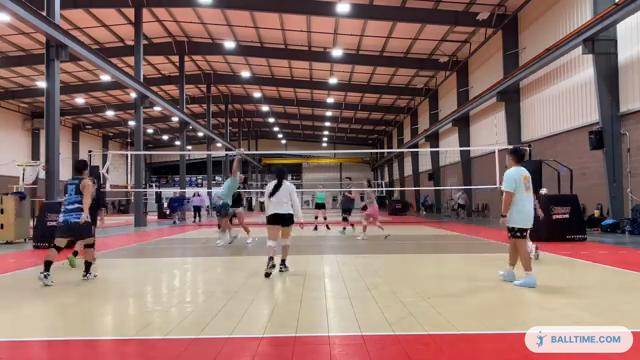alzata: (210, 151, 246, 249)
